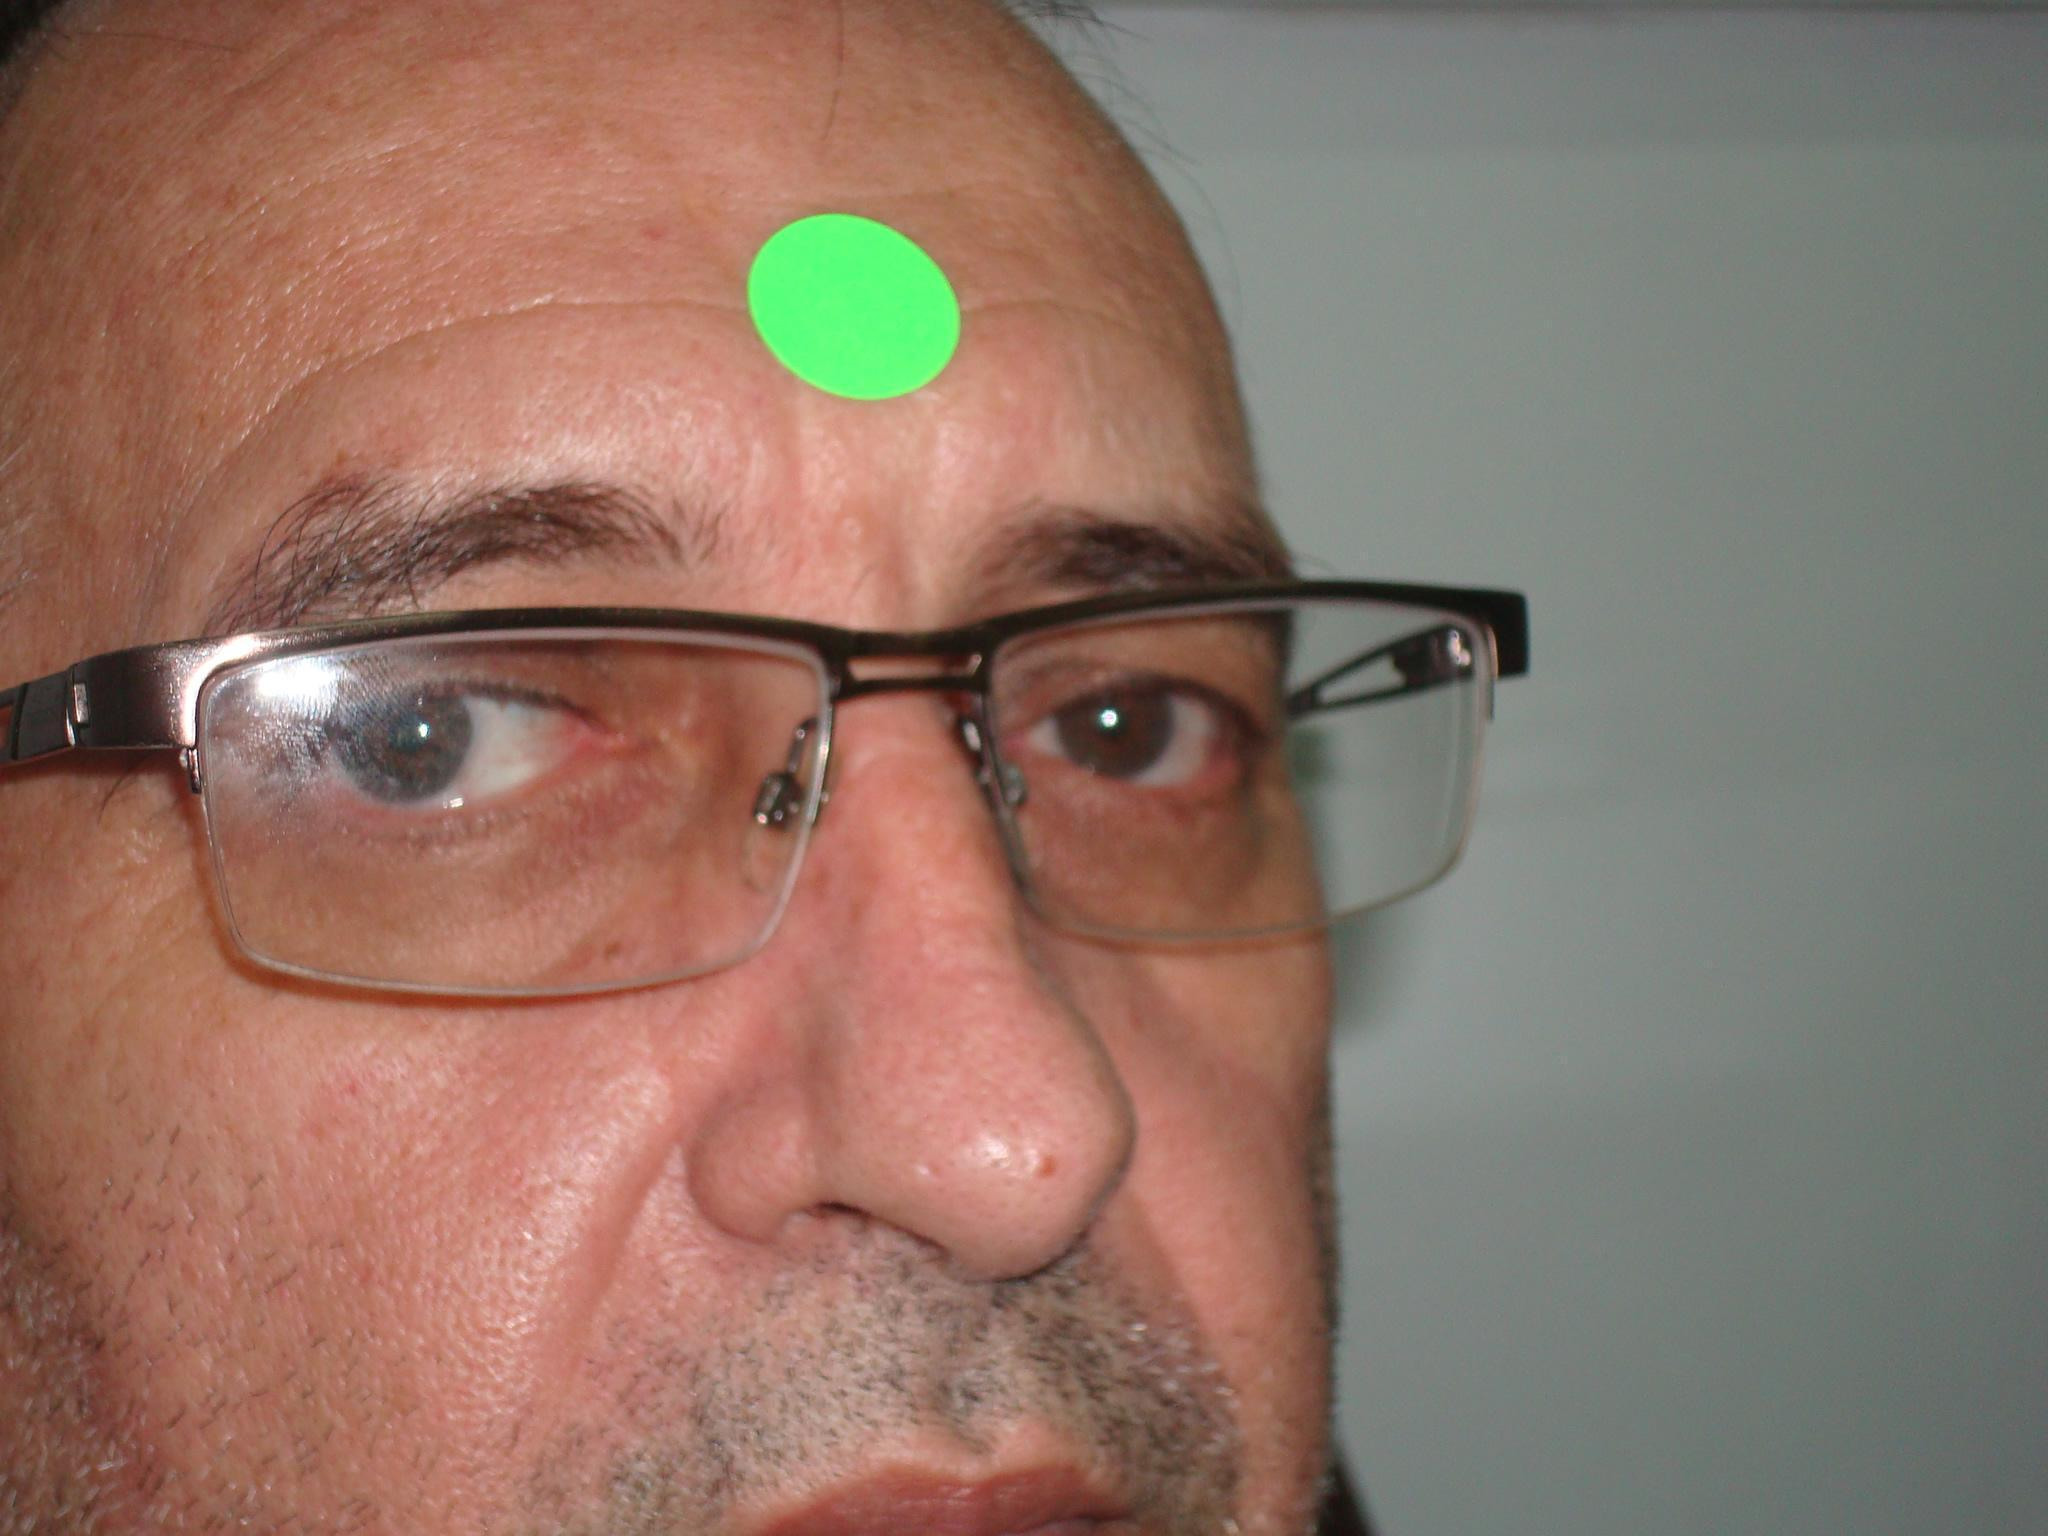flash: (413, 720, 435, 742), (1098, 710, 1119, 728)
limbo: (347, 671, 471, 795), (1051, 673, 1172, 776)
